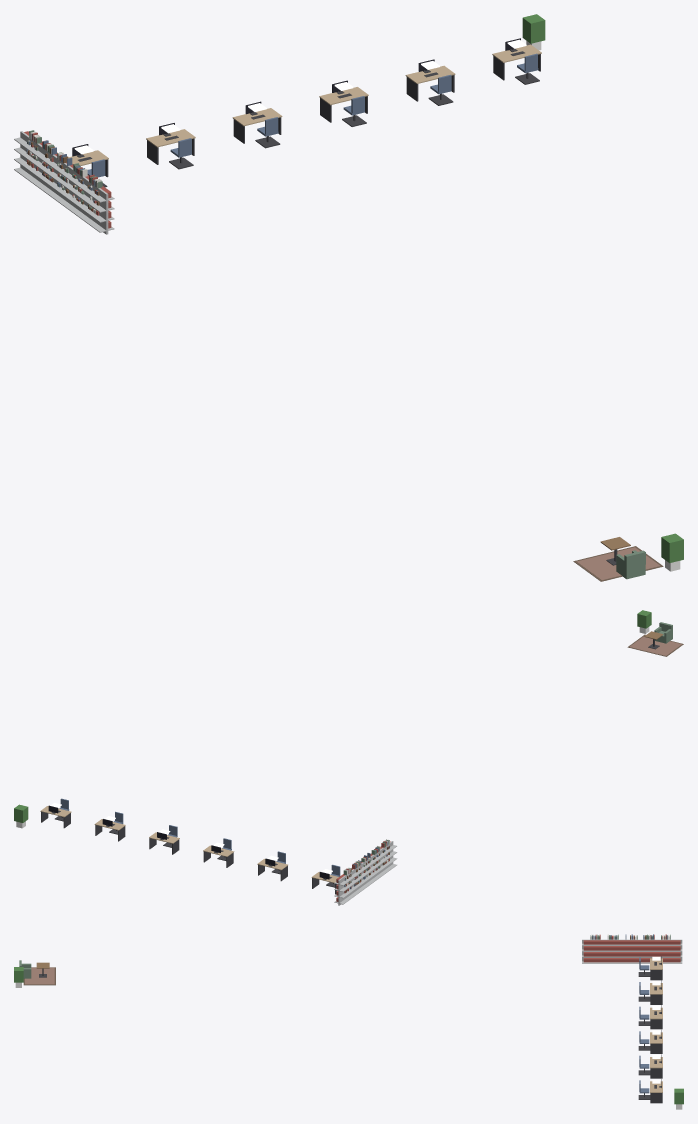
The model's file is fine-s1.glb.
3 views of the same model, one above another, from view 1: azimuth 30°, elevation 25°; view 2: azimuth 150°, elevation 25°; view 3: azimuth 270°, elevation 25° (orthographic). The views are drawn at different scales.
Visible parts, largest first — view 1: soft-s1, shelving.004, shelving.000, shelving.001, office-desk-real.004; view 2: soft-s1, shelving.000; view 3: soft-s1, shelving.000, shelving.004, shelving.003, shelving.002, shelving.001, office-desk-real.000, office-desk-real.005.
Part boxes in pixels (x1=…): soft-s1: x1=26, y1=130, x2=663, y2=581; shelving.004: x1=75, y1=176, x2=114, y2=234; shelving.000: x1=14, y1=131, x2=45, y2=187; shelving.001: x1=29, y1=143, x2=60, y2=198; office-desk-real.004: x1=405, y1=59, x2=455, y2=101; soft-s1: x1=343, y1=634, x2=683, y2=893; shelving.000: x1=334, y1=869, x2=358, y2=905; soft-s1: x1=23, y1=934, x2=670, y2=985; shelving.000: x1=653, y1=939, x2=682, y2=963; shelving.004: x1=582, y1=939, x2=610, y2=963; shelving.003: x1=600, y1=939, x2=628, y2=963; shelving.002: x1=617, y1=939, x2=644, y2=963; shelving.001: x1=635, y1=939, x2=663, y2=963; office-desk-real.000: x1=650, y1=956, x2=662, y2=980; office-desk-real.005: x1=650, y1=1079, x2=662, y2=1103.
Bounding box in the file's own units: 21.8 × 1.93 × 41.43.
